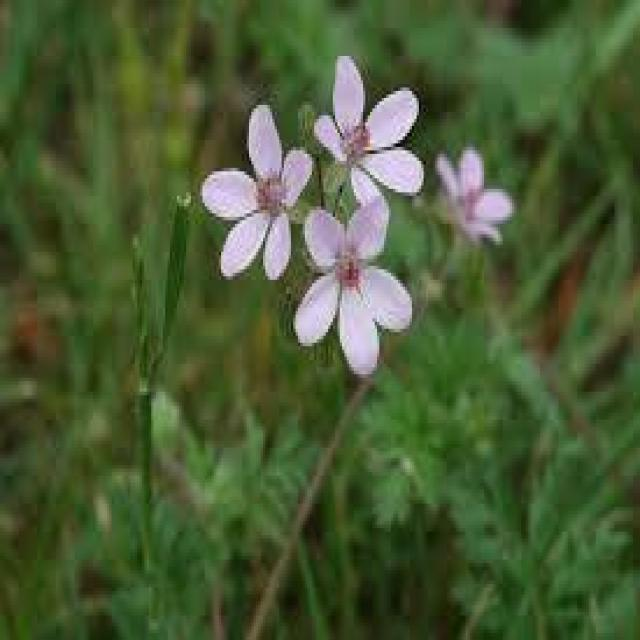organic waste: (294, 205, 418, 383), (198, 103, 314, 292), (308, 37, 422, 222), (427, 147, 516, 259)
